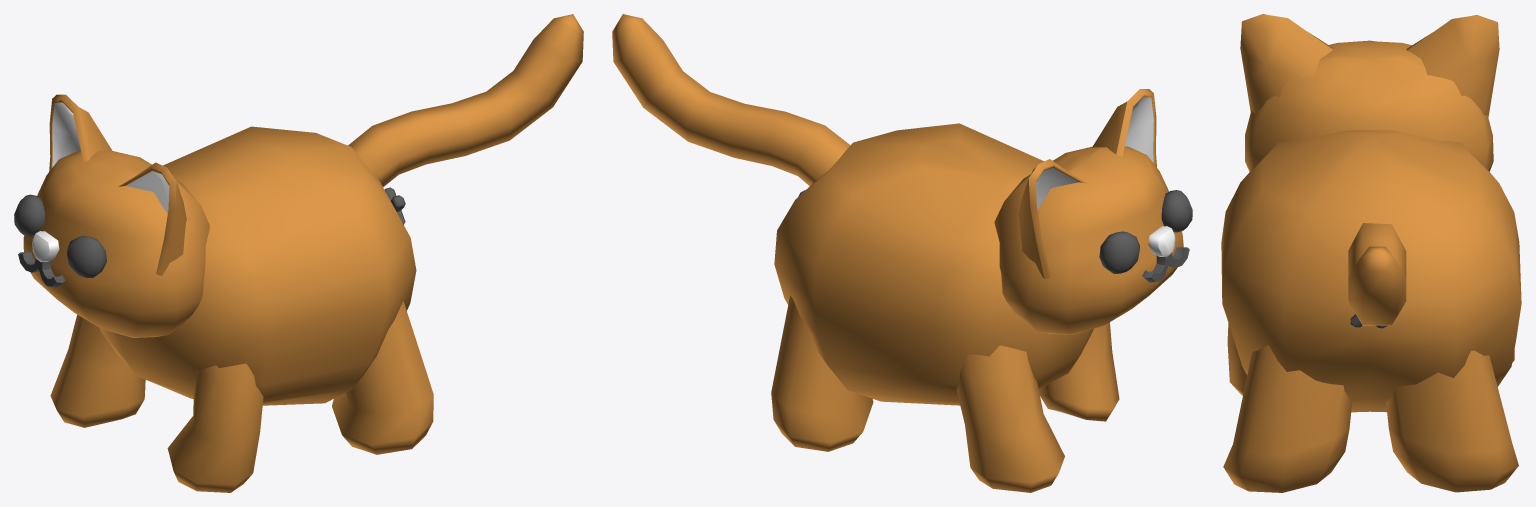
The model's file is basic cat.fbx.
3 views of the same model, side by side, from view 1: azimuth 30°, elevation 25°; view 2: azimuth 150°, elevation 25°; view 3: azimuth 270°, elevation 25° (orthographic). The views are drawn at different scales.
Visible parts, largest first — view 1: cat_basic, cat_basic1; view 2: cat_basic, cat_basic1; view 3: cat_basic.
Part boxes in pixels (left/top/right/bottom): cat_basic: left=23, top=14, right=583, bottom=492; cat_basic1: left=14, top=194, right=106, bottom=287; cat_basic: left=612, top=14, right=1183, bottom=492; cat_basic1: left=1099, top=190, right=1192, bottom=282; cat_basic: left=1221, top=14, right=1521, bottom=492.
Size of the model in its own units: 5.35 by 3.15 by 2.38.
